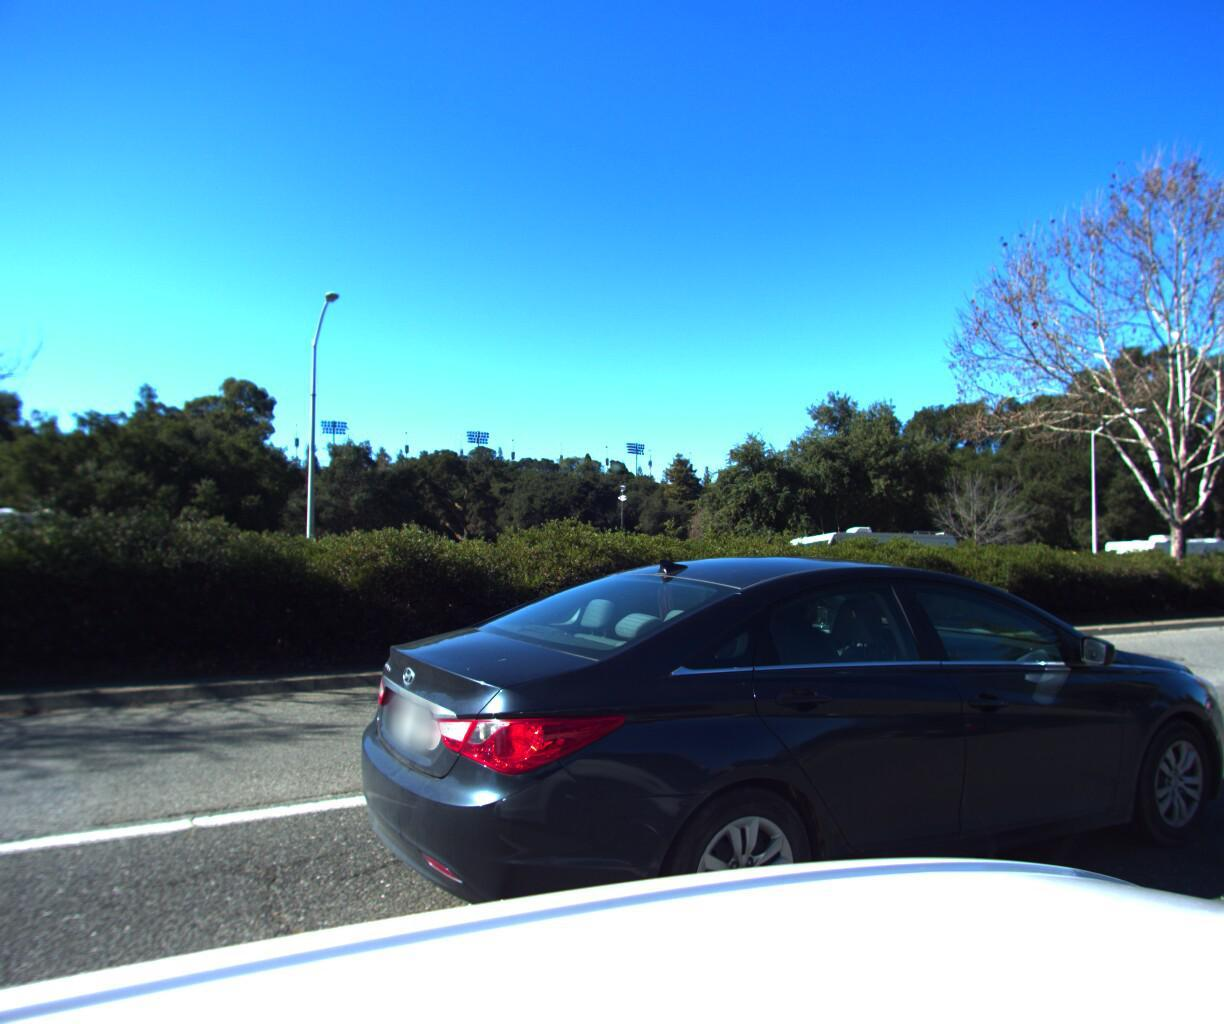car: (316, 551, 1224, 1024)
other_vehicle: (768, 524, 962, 612), (1087, 531, 1224, 599)
